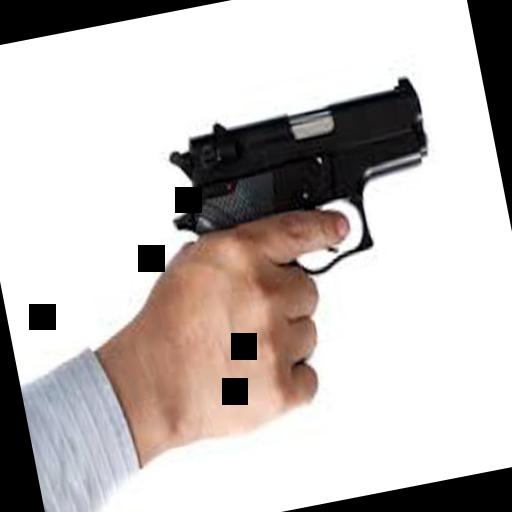Handgun: (157, 70, 451, 308)
